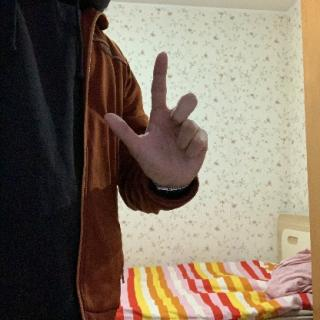LAAM: (101, 51, 212, 190)
